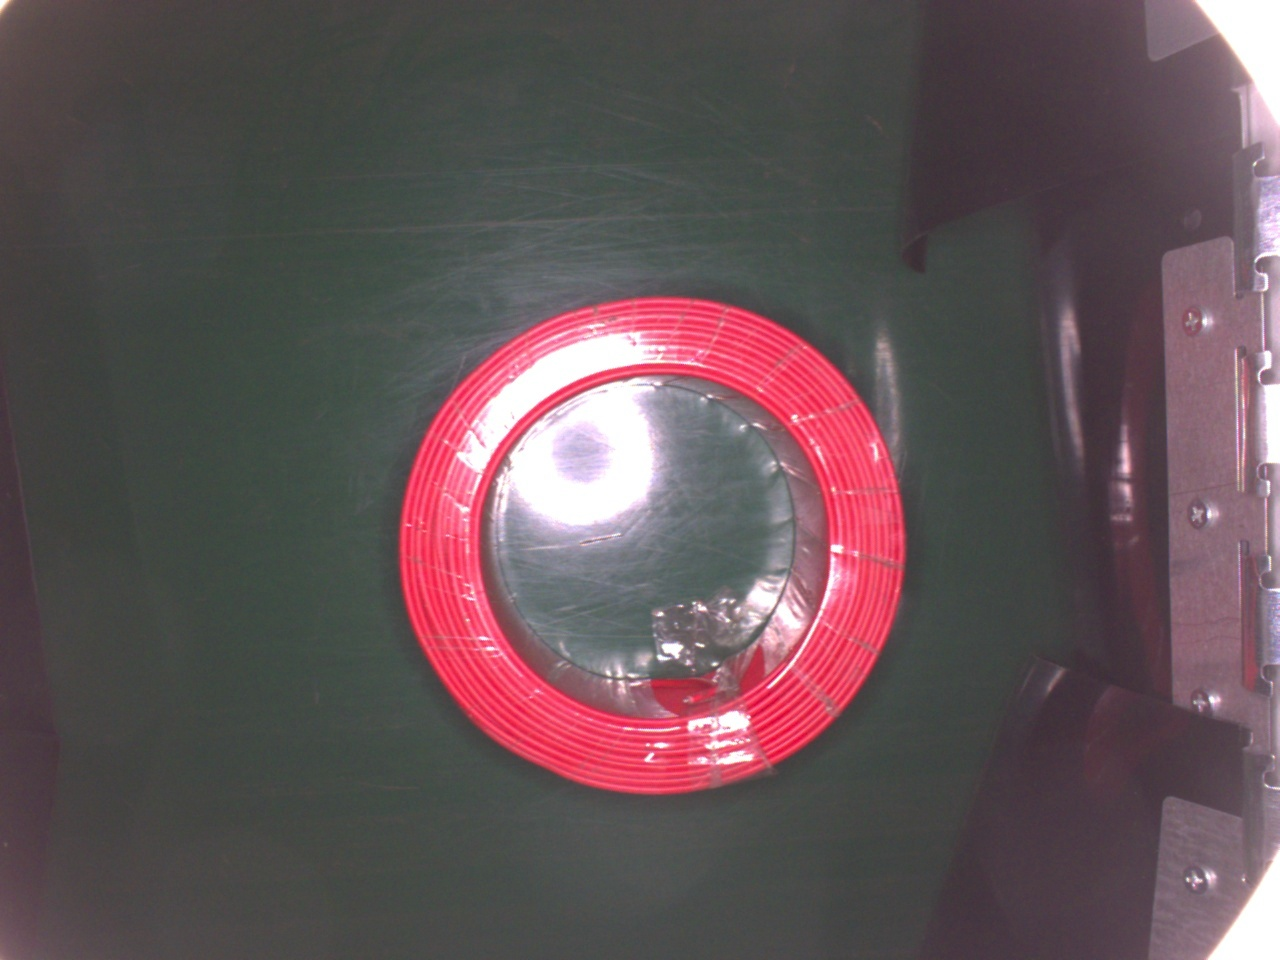red: (400, 292, 907, 796)
